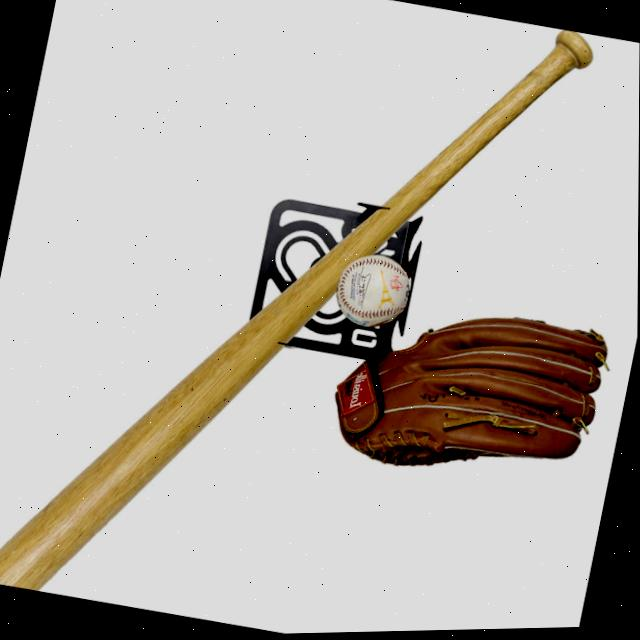baseball bat: (0, 220, 340, 636)
